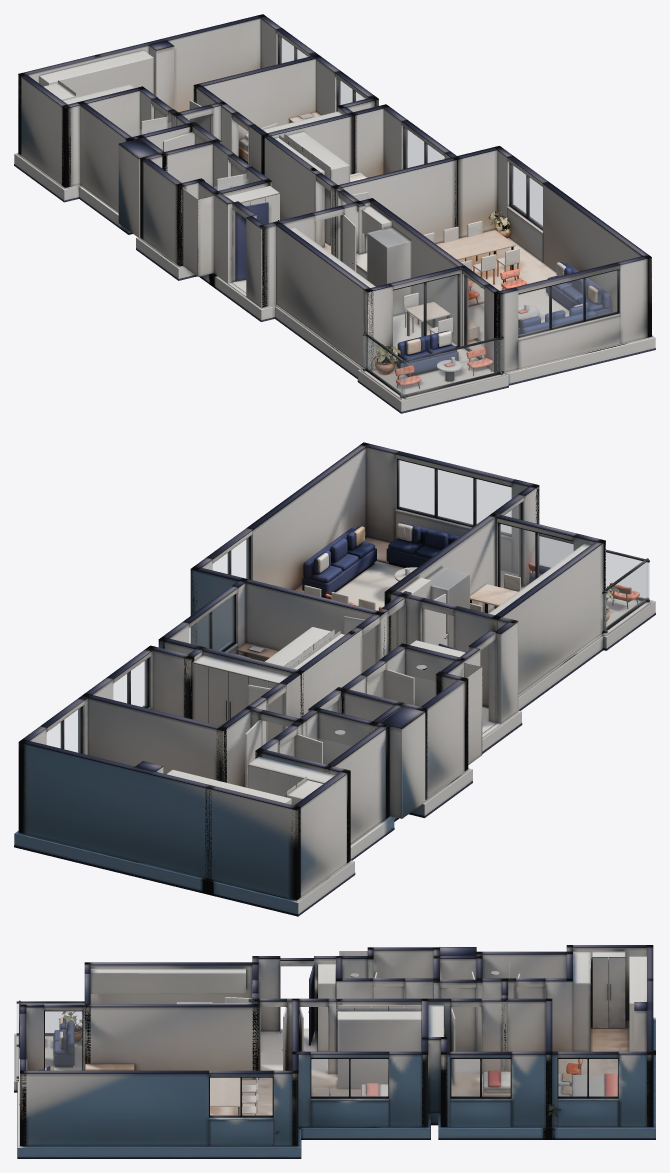
3 views of the same model, one above another, from view 1: azimuth 30°, elevation 25°; view 2: azimuth 150°, elevation 25°; view 3: azimuth 270°, elevation 25° (orthographic). The views are drawn at different scales.
Parts seen in each view (by area): view 1: plan, glass4_m, glass6_m, railg2_m, railg3_m, glass3_m, glass5_m, glass2_m; view 2: plan, glass4_m, glass6_m, railg2_m, railg3_m, glass2_m, glass5_m, glass1_m, glass0_m, glass3_m; view 3: plan, glass2_m, glass3_m, glass0_m, glass1_m, glass5_m, railg3_m.
Part boxes in pixels (x1=…): plan: x1=14, y1=14, x2=655, y2=413; glass4_m: x1=518, y1=270, x2=617, y2=335; glass6_m: x1=393, y1=275, x2=457, y2=360; railg2_m: x1=401, y1=339, x2=502, y2=395; railg3_m: x1=366, y1=337, x2=404, y2=395; glass3_m: x1=511, y1=164, x2=542, y2=227; glass5_m: x1=466, y1=277, x2=483, y2=358; glass2_m: x1=405, y1=128, x2=444, y2=168; plan: x1=14, y1=442, x2=655, y2=916; glass4_m: x1=398, y1=460, x2=511, y2=524; glass6_m: x1=500, y1=524, x2=573, y2=589; railg2_m: x1=540, y1=537, x2=649, y2=599; railg3_m: x1=603, y1=562, x2=647, y2=629; glass2_m: x1=189, y1=596, x2=233, y2=650; glass5_m: x1=501, y1=504, x2=520, y2=587; glass1_m: x1=113, y1=659, x2=146, y2=706; glass0_m: x1=47, y1=708, x2=80, y2=752; glass3_m: x1=213, y1=538, x2=248, y2=578; plan: x1=14, y1=945, x2=655, y2=1158; glass2_m: x1=311, y1=1059, x2=387, y2=1096; glass3_m: x1=210, y1=1078, x2=272, y2=1115; glass0_m: x1=558, y1=1059, x2=617, y2=1096; glass1_m: x1=451, y1=1059, x2=510, y2=1096; glass5_m: x1=45, y1=1011, x2=81, y2=1070; railg3_m: x1=17, y1=1004, x2=81, y2=1032.
Size of the model in its own units: 8.71 by 2.62 by 18.09.
2 materials, 1 textured.
